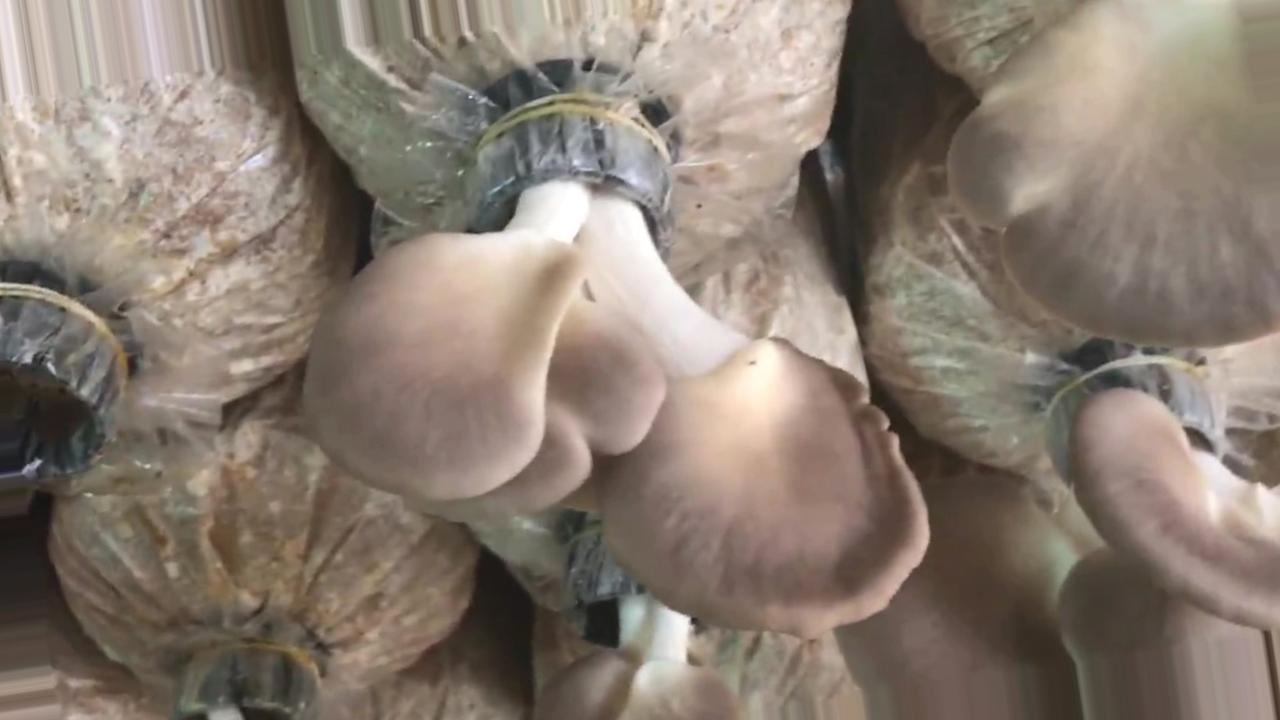nam: (308, 100, 929, 635), (838, 362, 1279, 717), (952, 1, 1279, 345), (542, 530, 738, 720)
